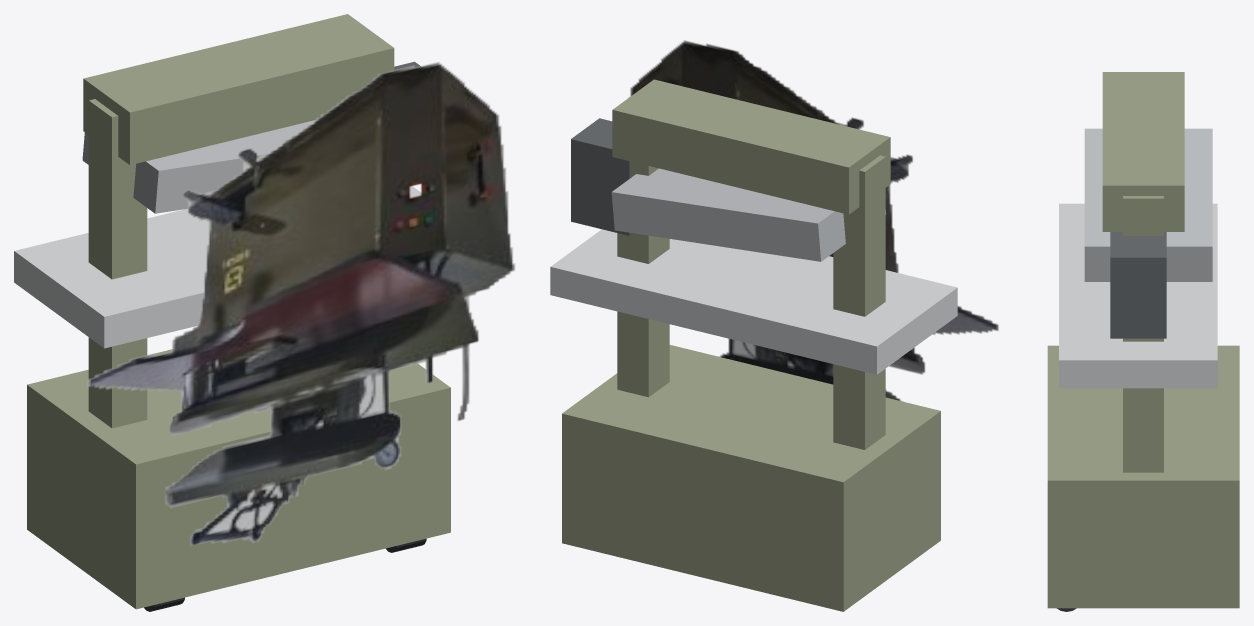
Rendered from fasterb-electric-press-42-30l.glb.
3 renders of one model, left to right at view 1: azimuth 30°, elevation 25°; view 2: azimuth 150°, elevation 25°; view 3: azimuth 270°, elevation 25°, orthographic. The views are drawn at different scales.
Visible parts, largest first — view 1: front_decal, base, top_beam, table, left_post, press_head; view 2: base, table, top_beam, press_head, front_decal, left_post, right_post, control; view 3: base, table, top_beam, press_head, control, right_post.
Part boxes in pixels (x1,y1,x2,y2): front_decal: (87,61,515,545); base: (27,349,450,609); top_beam: (83,14,394,165); table: (14,186,421,348); left_post: (88,99,147,428); press_head: (82,120,316,213); base: (562,345,940,611); table: (550,229,957,374); top_beam: (612,79,890,214); press_head: (611,168,885,261); front_decal: (628,40,998,401); left_post: (833,155,885,449); right_post: (617,161,669,397); control: (571,118,630,235); base: (1047,345,1239,608); table: (1059,203,1217,388); top_beam: (1102,72,1184,231); press_head: (1084,128,1212,281); control: (1110,232,1166,338); right_post: (1123,196,1163,472).
Bounding box in the file's own units: 1.75 × 1.92 × 0.805.
Materials: 6 (1 with a texture image).
